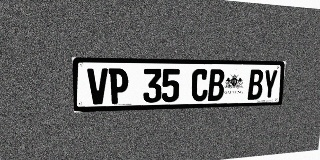3: (143, 69, 162, 103)
5: (162, 69, 180, 102)
B: (208, 69, 225, 101), (247, 69, 264, 100)
C: (191, 69, 209, 101)
P: (109, 68, 128, 104)
V: (87, 68, 108, 105)
Y: (262, 70, 278, 99)
